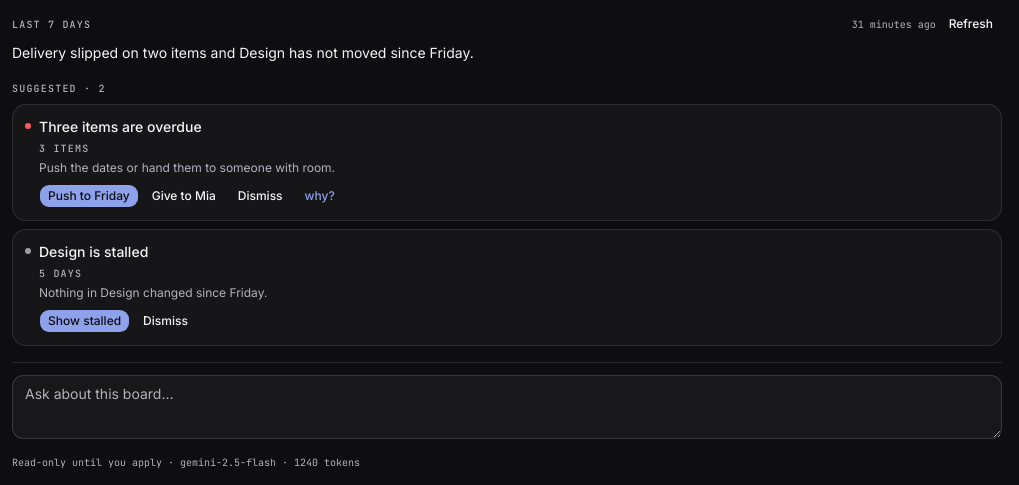
Test case: IntelligenceTab — the brief › dates a refreshed brief from now, not from when the tab opened
Expected: the text "31 minutes ago" is shown, top-left (852, 16), bottom-right (936, 32)
Click the button "Refresh": (971, 24) top-left (940, 12), bottom-right (1002, 36)
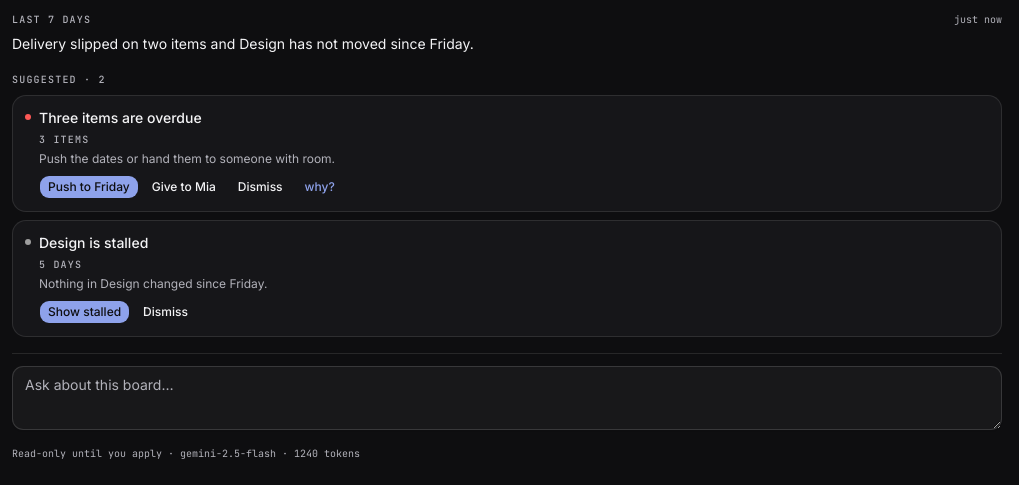
Result: the text "just now" is shown at top-left (954, 12), bottom-right (1002, 27)
